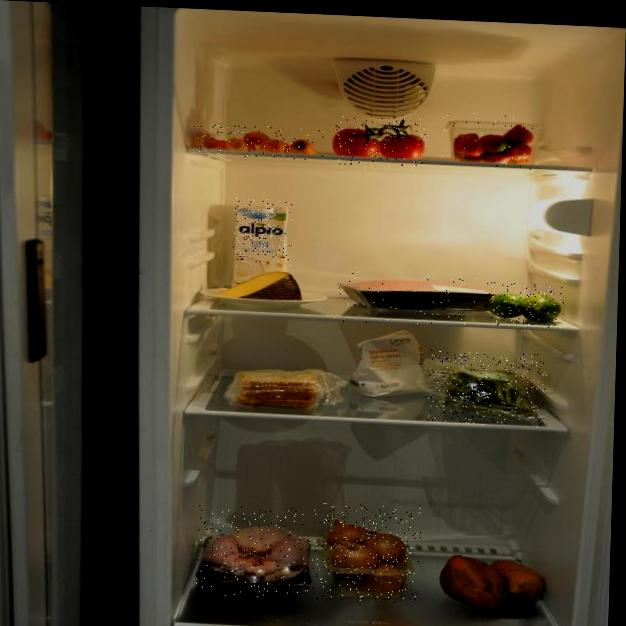bread: (237, 354, 335, 416)
carrots: (193, 123, 325, 162)
cheese: (224, 263, 309, 322)
chicken: (195, 505, 323, 601)
green beans: (426, 349, 547, 428)
lime: (486, 282, 564, 328)
meat: (331, 269, 499, 329)
milk: (232, 198, 292, 276)
onion: (321, 503, 422, 604)
strawberry: (441, 112, 537, 170)
tomatoes: (335, 115, 427, 170)
